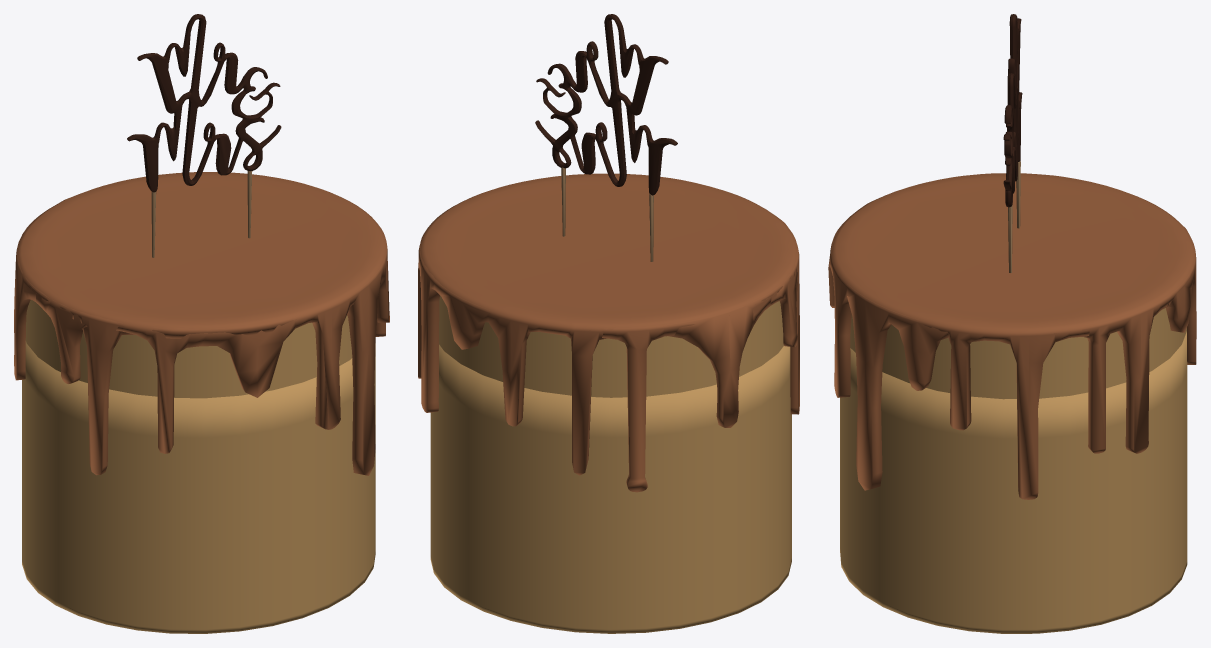
The model's file is 1-tier-caramel-ganache-mrms.glb.
3 renders of one model, left to right at view 1: azimuth 30°, elevation 25°; view 2: azimuth 150°, elevation 25°; view 3: azimuth 270°, elevation 25°, orthographic.
Parts seen in each view (by area): view 1: Cylinder.019, tHE ICING, mrms.001; view 2: Cylinder.019, tHE ICING, mrms.001; view 3: Cylinder.019, tHE ICING, mrms.001.
Part boxes in pixels (bbox=[...]): Cylinder.019: bbox=[22, 300, 375, 633]; tHE ICING: bbox=[14, 172, 389, 475]; mrms.001: bbox=[127, 14, 281, 257]; Cylinder.019: bbox=[430, 295, 791, 633]; tHE ICING: bbox=[418, 173, 799, 492]; mrms.001: bbox=[535, 14, 677, 261]; Cylinder.019: bbox=[840, 308, 1187, 633]; tHE ICING: bbox=[828, 173, 1196, 499]; mrms.001: bbox=[1003, 14, 1022, 272].
Size of the model in its own units: 2.8 by 4.41 by 2.71.
